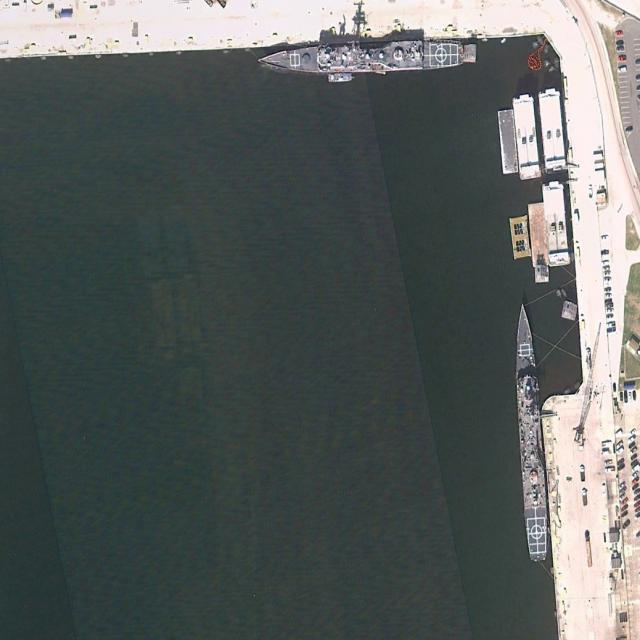Frigate: (511, 301, 550, 562), (257, 36, 464, 78)
